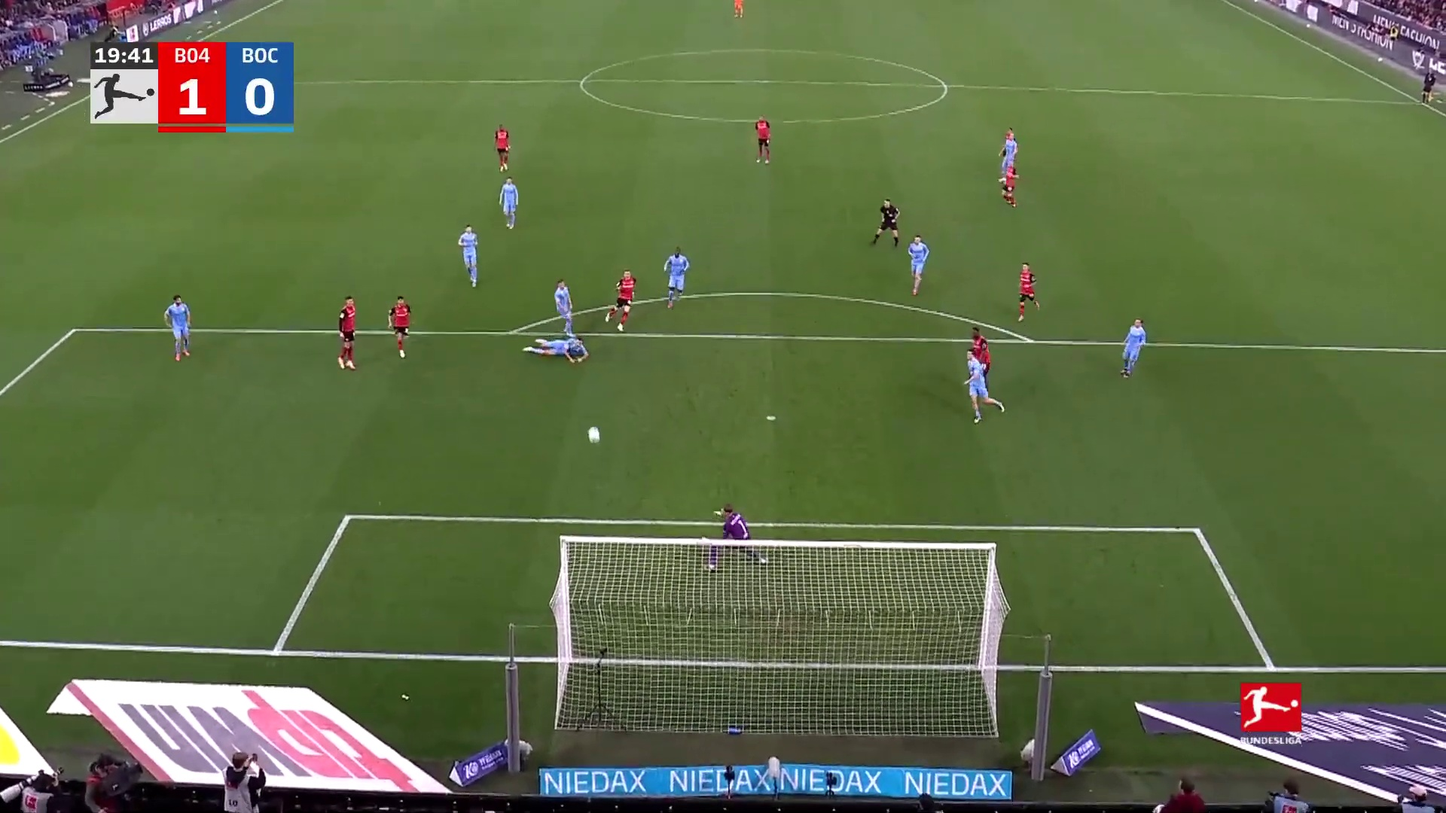ball: (586, 425, 602, 444)
player: (960, 350, 1007, 425), (162, 293, 197, 363), (332, 295, 363, 372), (1116, 316, 1151, 380), (603, 268, 639, 330), (660, 247, 692, 310), (1012, 260, 1043, 322), (385, 295, 415, 359), (455, 224, 482, 289), (905, 233, 932, 297), (529, 335, 590, 363), (710, 503, 753, 538), (966, 324, 991, 384), (554, 279, 579, 338), (996, 153, 1022, 209), (496, 177, 521, 231), (751, 114, 775, 167), (998, 127, 1022, 178), (492, 124, 514, 172), (730, 0, 747, 21)
referee: (868, 197, 904, 251), (1413, 65, 1438, 107)
